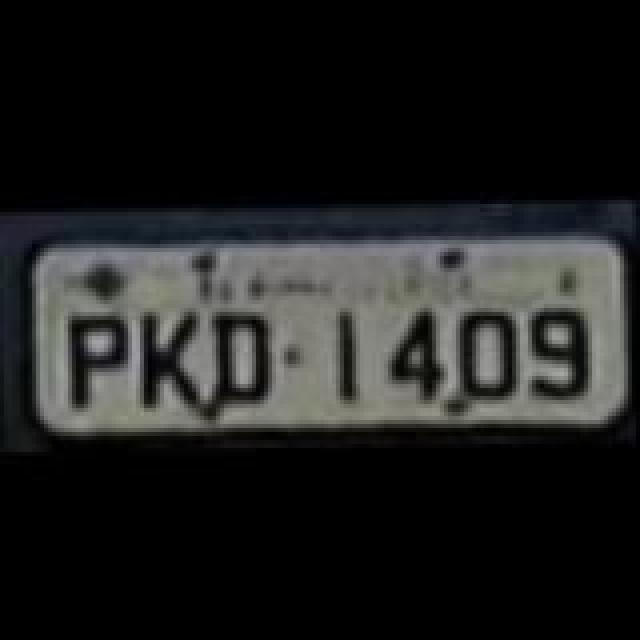1: (330, 308, 366, 404)
4: (384, 300, 448, 404)
9: (524, 300, 592, 400)
D: (210, 304, 278, 408)
K: (132, 306, 204, 414)
O: (452, 300, 524, 404)
P: (60, 308, 132, 408)
